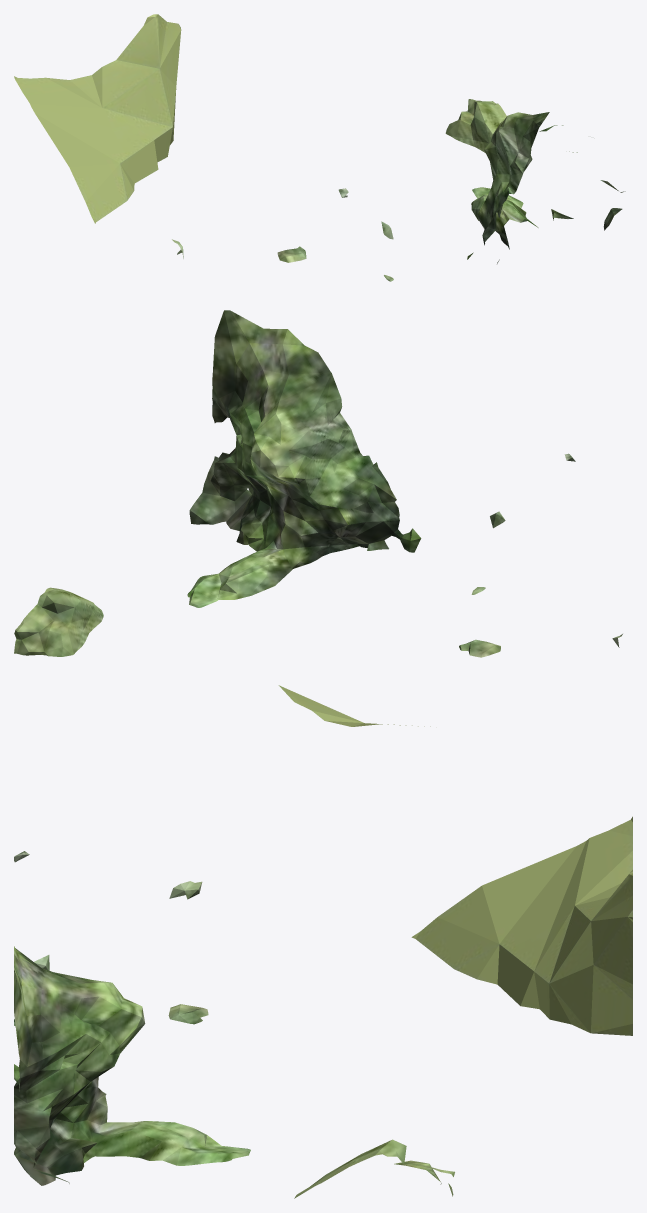
3 renders of one model, top to bottom at view 1: azimuth 30°, elevation 25°; view 2: azimuth 150°, elevation 25°; view 3: azimuth 270°, elevation 25°, orthographic. The views are drawn at different scales.
Bounding box in the file's own units: 26.11 × 10.2 × 26.11.
1 material, 1 textured.
